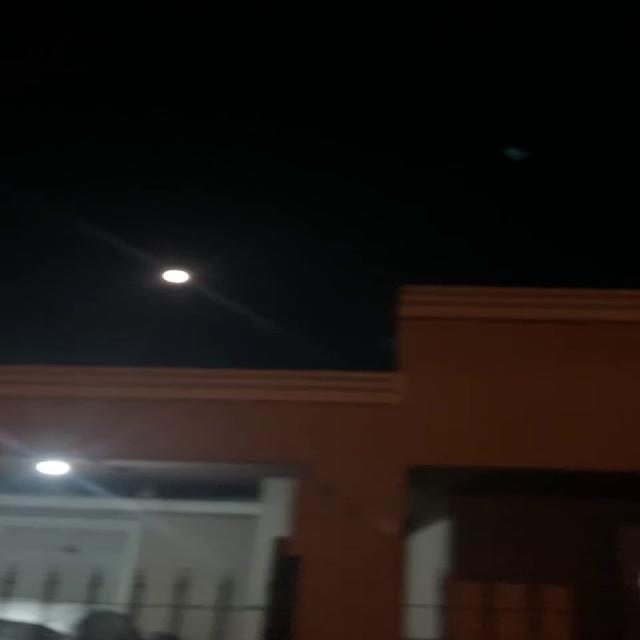moon: (151, 262, 203, 293)
